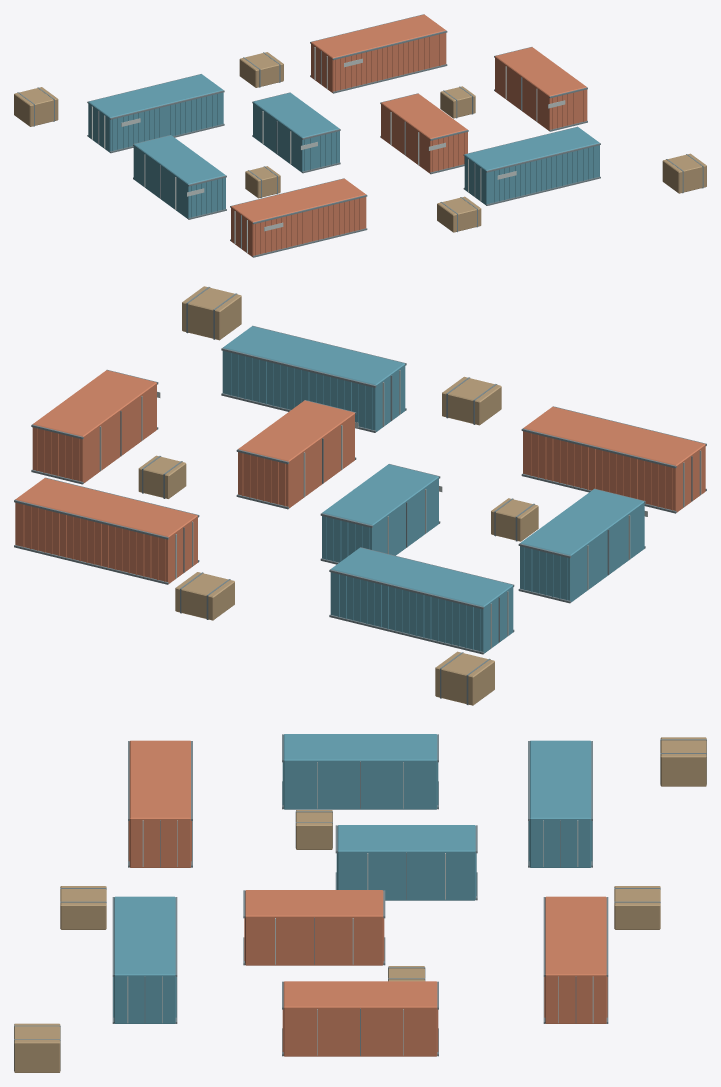
Rendered from yard.glb.
3 renders of one model, top to bottom at view 1: azimuth 30°, elevation 25°; view 2: azimuth 150°, elevation 25°; view 3: azimuth 270°, elevation 25°, orthographic. The views are drawn at different scales.
Visible parts, largest first — view 1: Container.001, Container, Crate, Frame rail, Locking rod; view 2: Container.001, Container, Crate, Frame rail, Locking rod; view 3: Container.001, Container, Crate, Frame rail, Locking rod.
Boxes of the visible parts, bbox=[...] form: Container.001: bbox=[231, 14, 587, 256]; Container: bbox=[88, 74, 599, 218]; Crate: bbox=[14, 52, 706, 232]; Frame rail: bbox=[17, 14, 703, 257]; Locking rod: bbox=[91, 47, 565, 252]; Container.001: bbox=[15, 370, 705, 583]; Container: bbox=[222, 326, 644, 653]; Crate: bbox=[138, 286, 538, 705]; Frame rail: bbox=[14, 287, 706, 704]; Locking rod: bbox=[99, 370, 701, 648]; Container.001: bbox=[128, 740, 607, 1056]; Container: bbox=[113, 734, 592, 1023]; Crate: bbox=[14, 737, 706, 1072]; Frame rail: bbox=[14, 734, 706, 1070]; Locking rod: bbox=[127, 762, 593, 1055].
Bounding box in the file's own units: 47 × 3.61 × 45.03.
